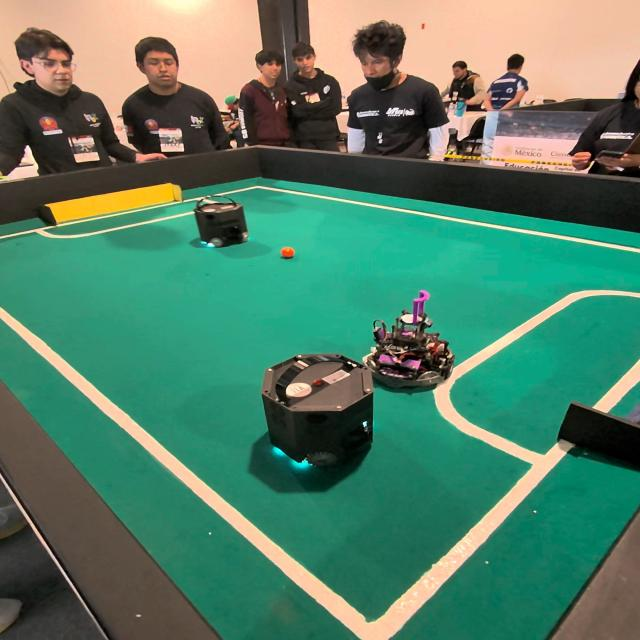Robot: (255, 336, 374, 498), (371, 298, 452, 395), (191, 190, 254, 256)
pelota: (281, 247, 297, 259)
